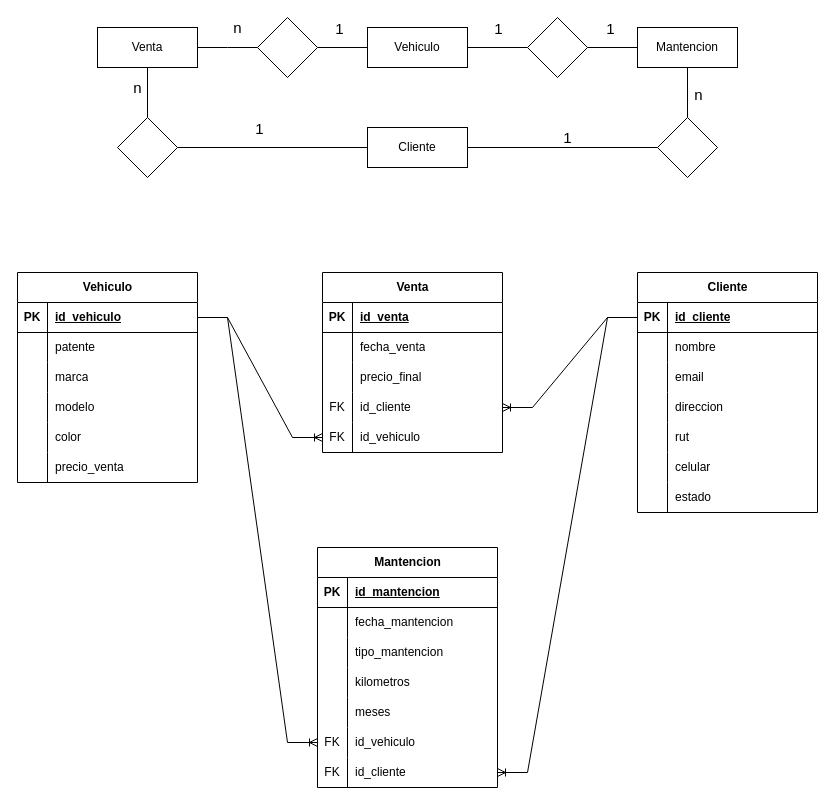
This 835x805 diagram has some shape labels left out. Each missing label, with the centre of its shape:
"Hace" belongs at pixel 147 147.
"Se vende" belongs at pixel 287 47.
"Solicita" belongs at pixel 687 147.
"Sujeto a" belongs at pixel 557 47.
